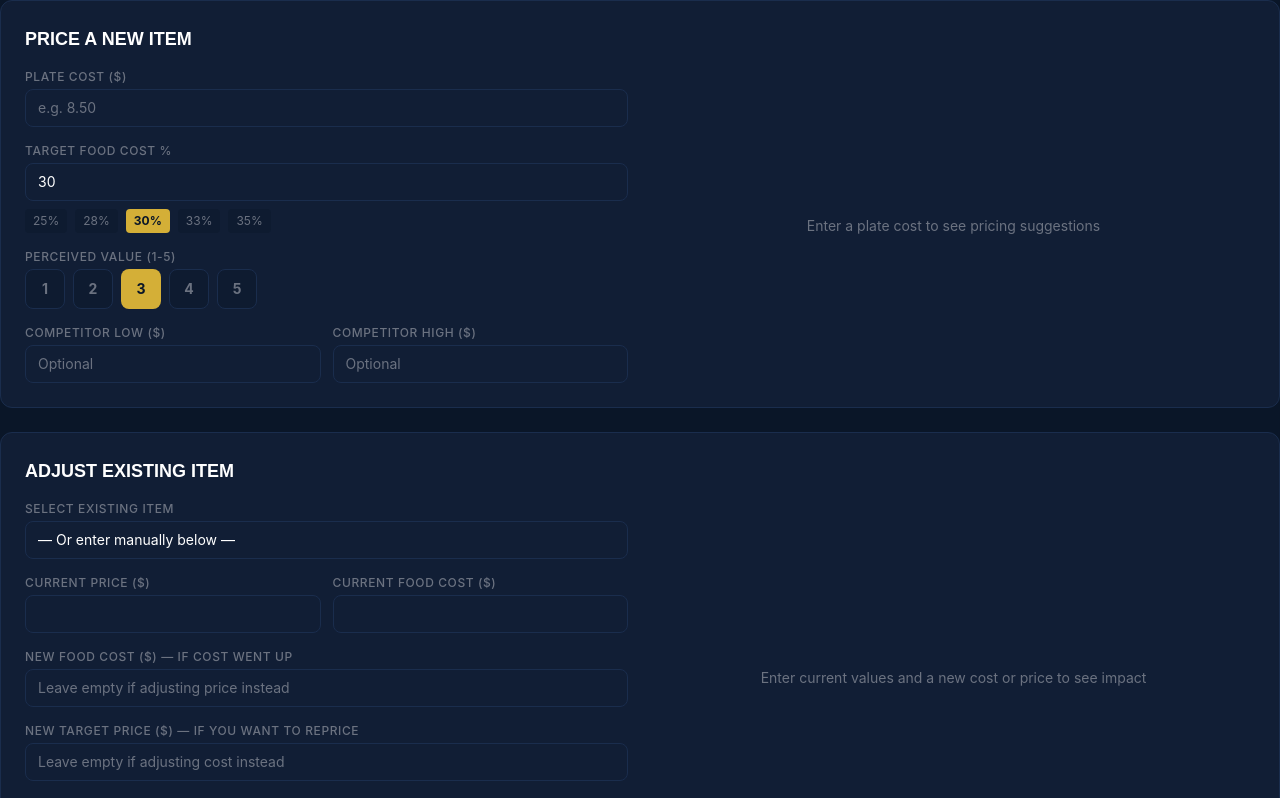
it: PricingCalculator › ReverseCalculator › pre-fills fields when item selected from dropdown
Select "Grilled Salmon ($28.00)" in the dropdown showing "— Or enter manually below —" at (326, 540), box [25,521,628,559]
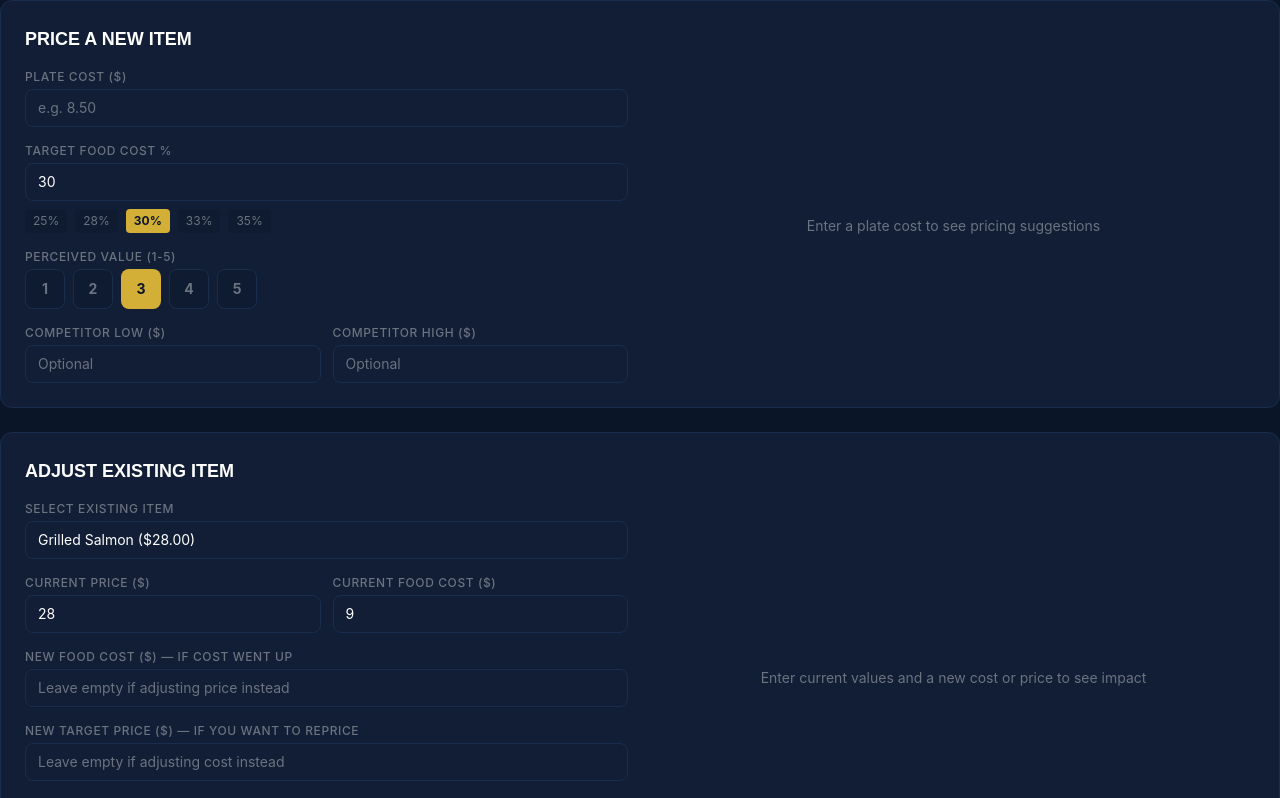
Now the number field showing "28" below "Current Price ($)" is shown, box [25,595,320,633]
Now the number field showing "9" below "Current Food Cost ($)" is shown, box [332,595,628,633]
